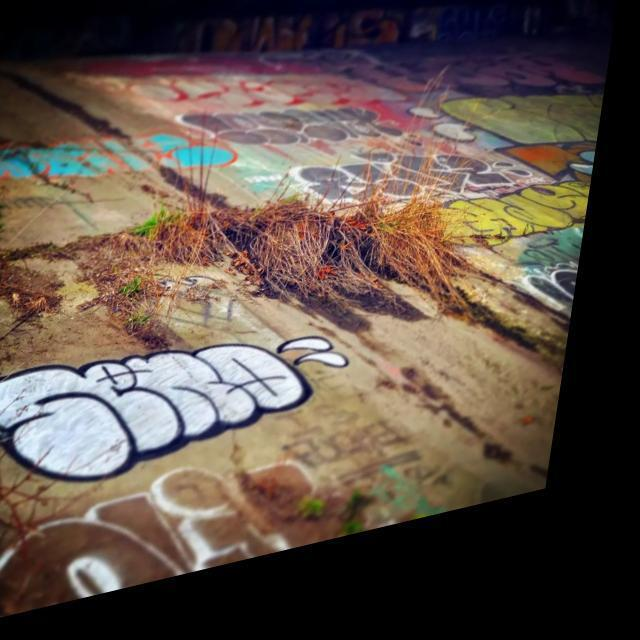-: (0, 294, 395, 520), (6, 438, 408, 624), (293, 128, 548, 257), (407, 196, 603, 298), (486, 266, 594, 402)
